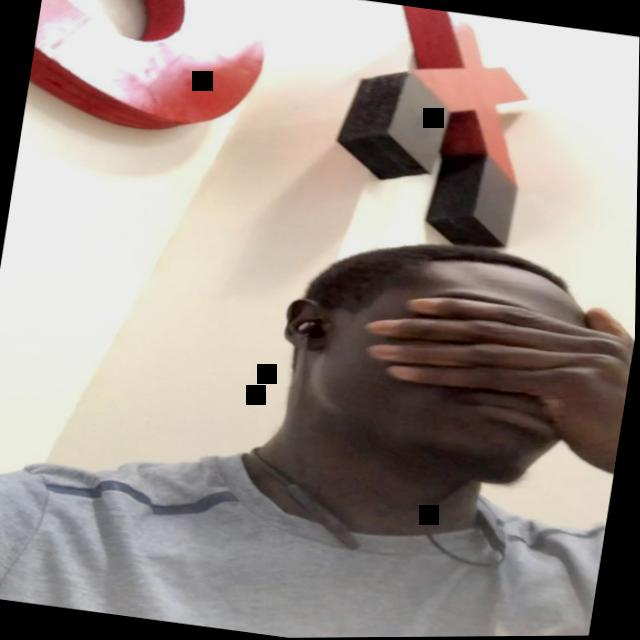NO-Mask: (307, 256, 622, 501)
